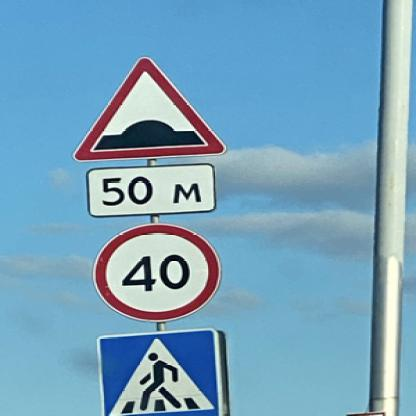crosswalk: (94, 326, 225, 414)
speedlimit: (89, 221, 220, 320)
